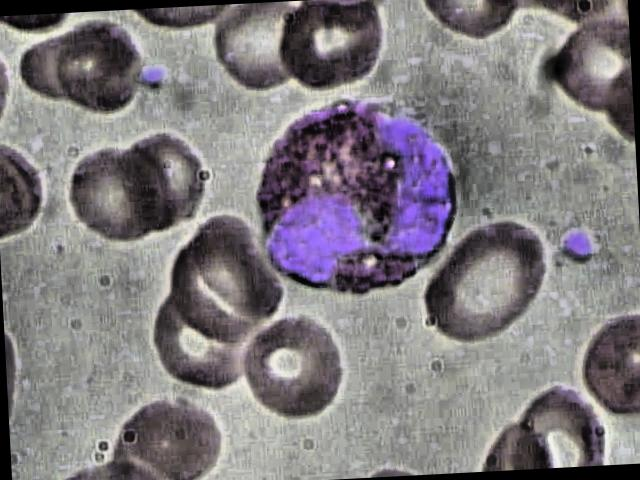Platelets: (549, 222, 602, 273), (132, 60, 170, 96)
RBC: (414, 207, 556, 354), (238, 306, 352, 428), (64, 134, 178, 255), (108, 383, 226, 480), (275, 0, 389, 99), (46, 17, 150, 122), (576, 313, 640, 420)
WBC: (243, 84, 474, 310)
